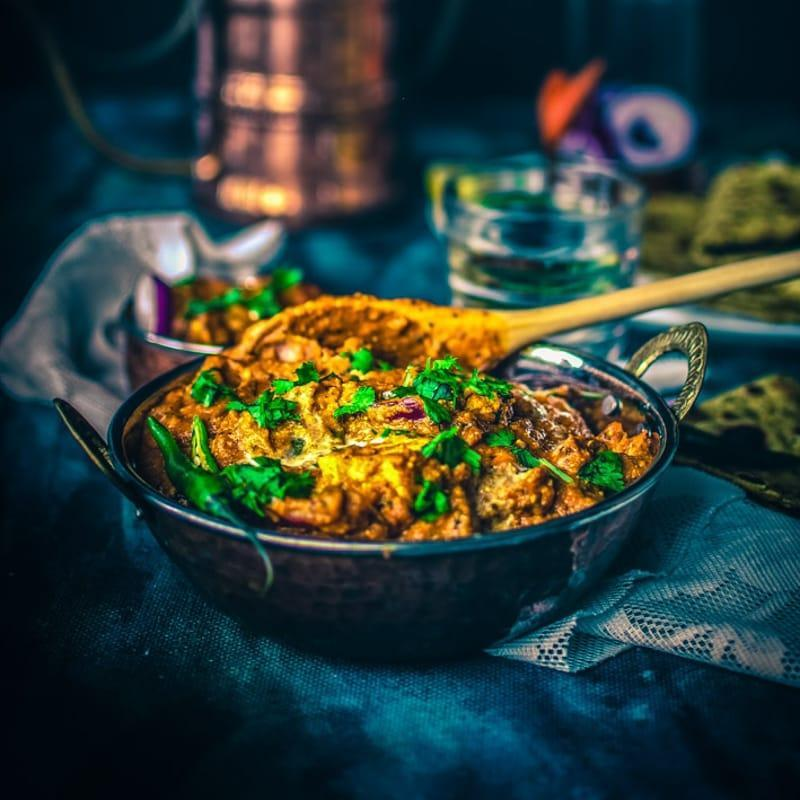paneer: (218, 361, 569, 494)
